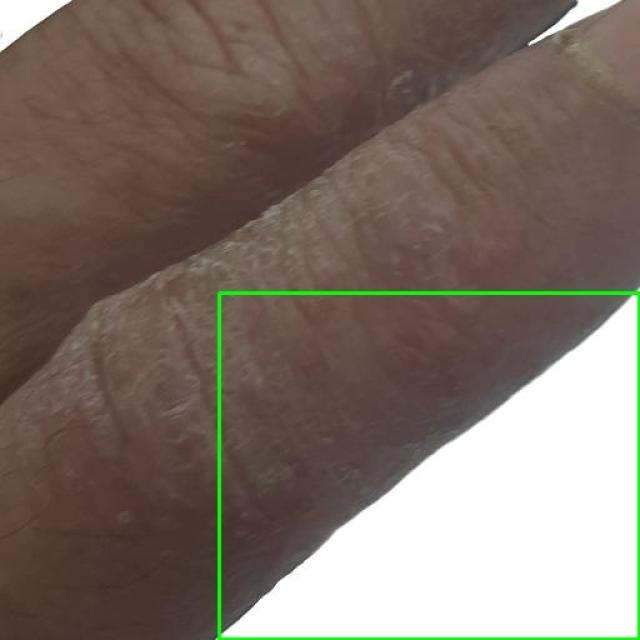Contact Dermatitis: (219, 292, 639, 639)
